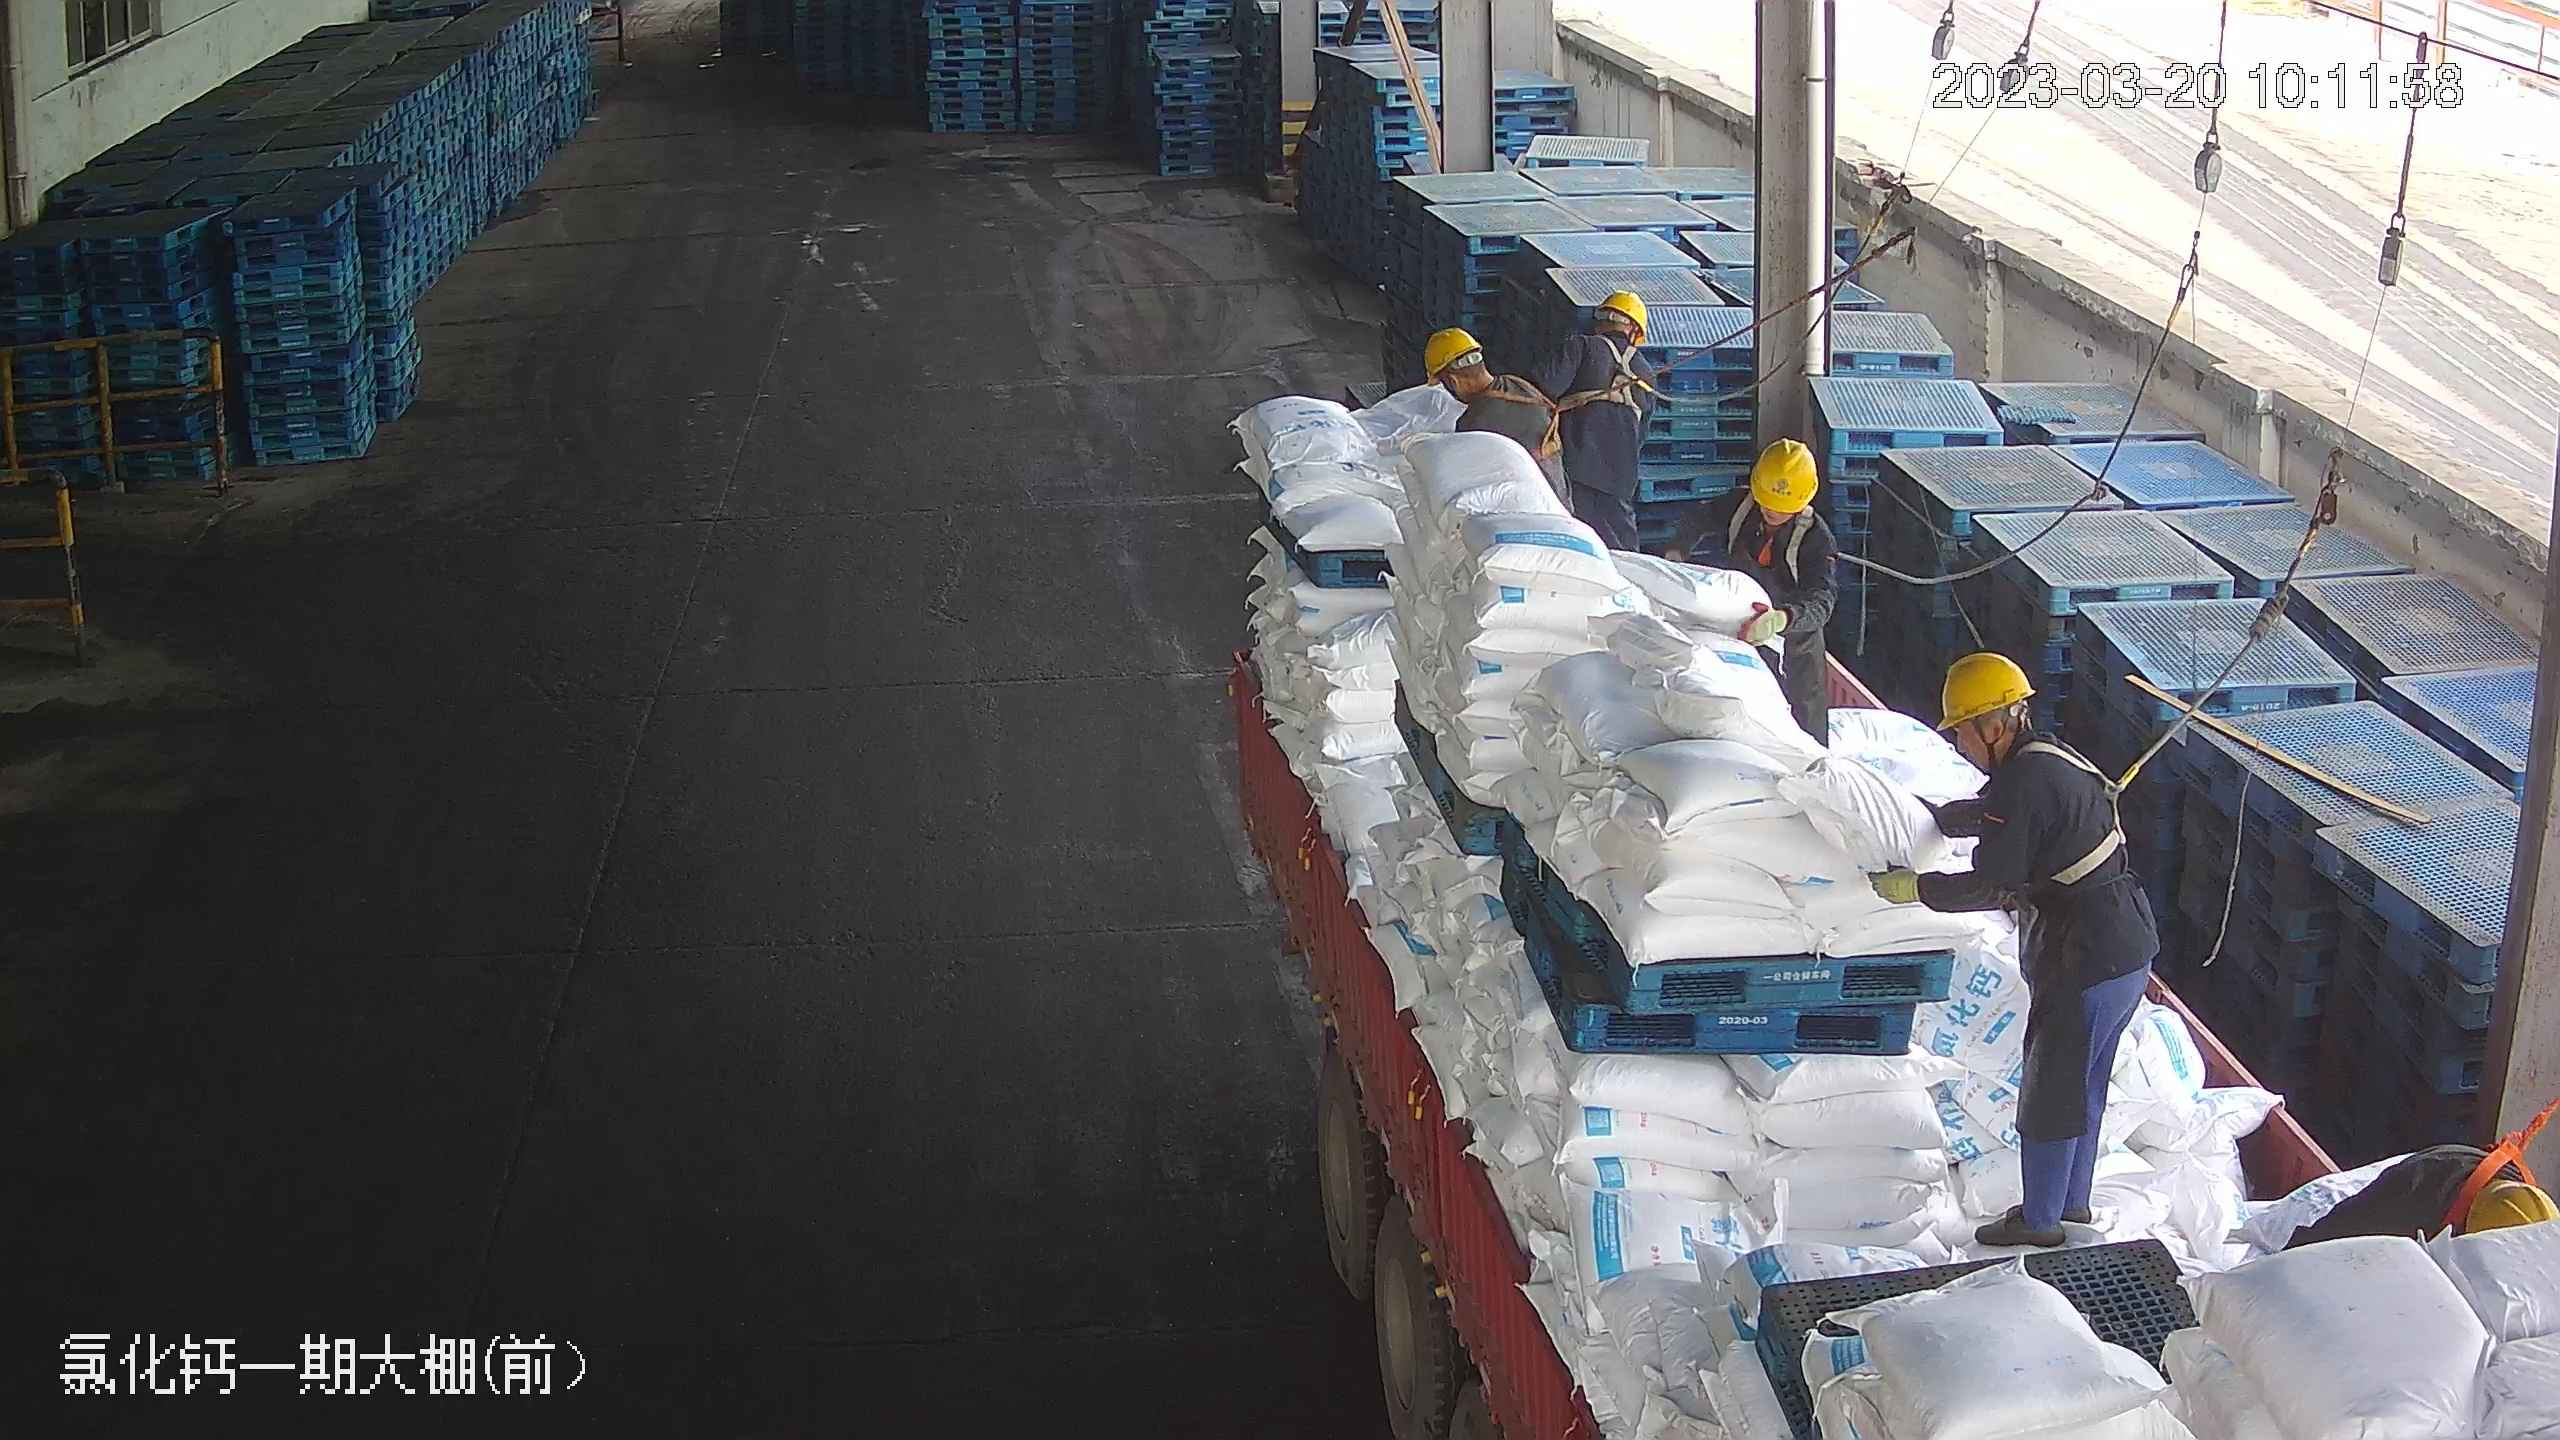belt: (2011, 729, 2149, 888), (2457, 1082, 2560, 1237), (1737, 494, 1833, 582), (1473, 369, 1570, 451), (1572, 331, 1653, 412)
head: (1928, 650, 2109, 825), (1717, 433, 1836, 562), (1423, 324, 1549, 431), (1564, 285, 1661, 376)
helmet: (1932, 647, 2036, 731), (1746, 434, 1819, 513), (1419, 322, 1485, 380), (1598, 286, 1651, 333)
people: (1872, 649, 2152, 1247), (1667, 435, 1841, 754), (1553, 282, 1666, 547)
truck: (1213, 310, 2416, 1427)
